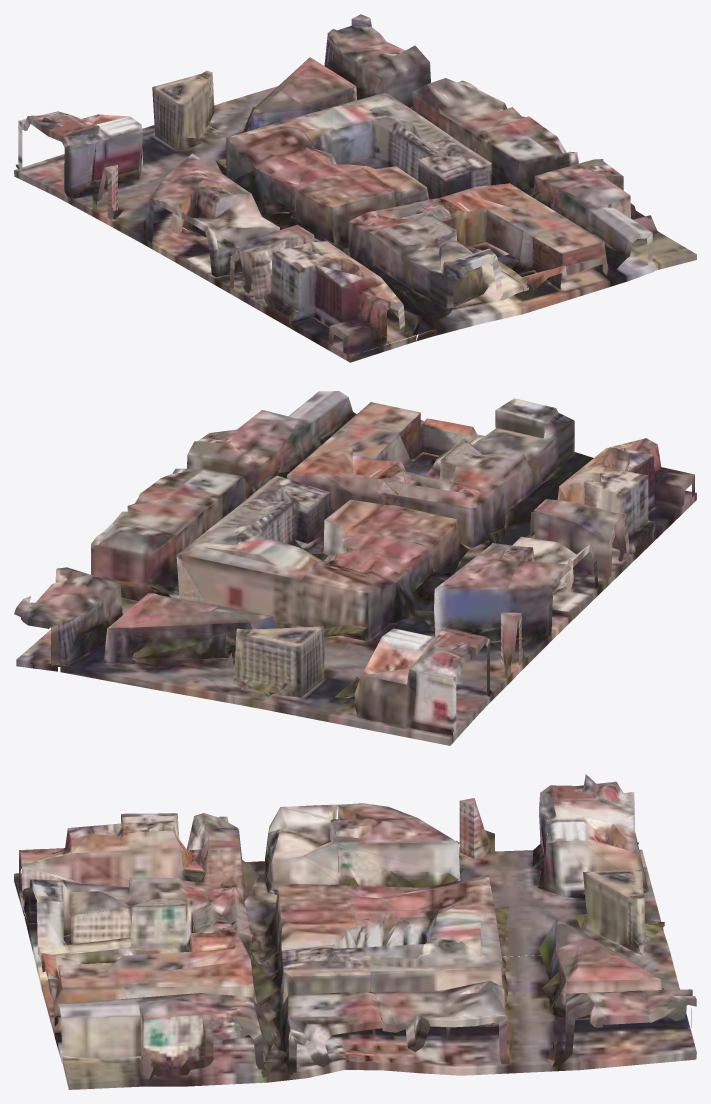
3 renders of one model, top to bottom at view 1: azimuth 30°, elevation 25°; view 2: azimuth 150°, elevation 25°; view 3: azimuth 270°, elevation 25°, orthographic. The views are drawn at different scales.
Visible parts, largest first — view 1: Mesh_0; view 2: Mesh_0; view 3: Mesh_0.
Boxes of the visible parts, box(x1,y1,x2,y2) form: Mesh_0: box(14, 14, 696, 362); Mesh_0: box(14, 391, 696, 745); Mesh_0: box(14, 774, 696, 1089).
Size of the model in its own units: 266 by 48.22 by 330.
Materials: 2 (2 with a texture image).
